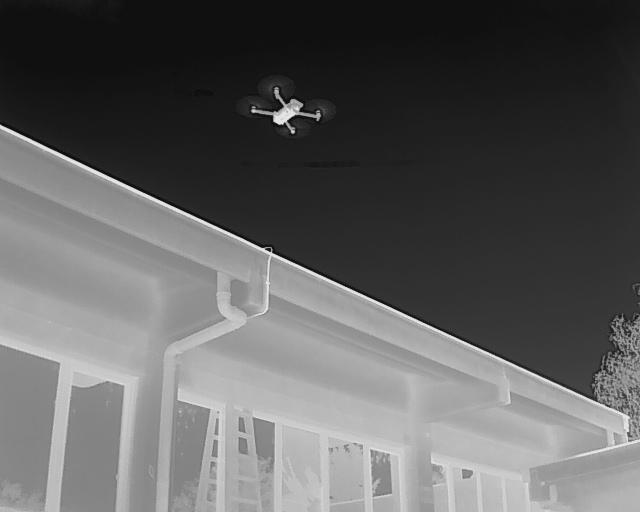drone: (234, 72, 337, 145)
